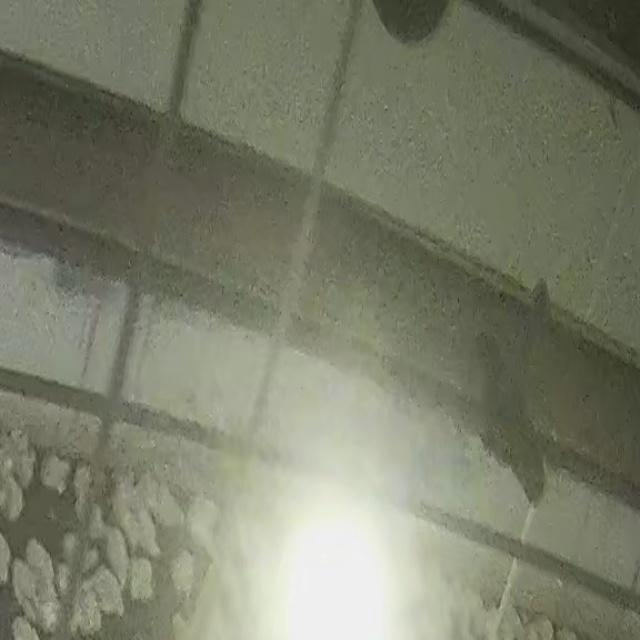chicken: (103, 525, 135, 593), (86, 564, 126, 618), (23, 536, 59, 595), (186, 493, 222, 551), (129, 499, 164, 555), (150, 478, 188, 529), (39, 451, 75, 497), (11, 557, 36, 622), (169, 549, 200, 599), (69, 589, 100, 633), (127, 556, 157, 600), (72, 463, 96, 516), (494, 602, 526, 640), (1, 478, 26, 523), (518, 613, 556, 640), (34, 597, 63, 632), (87, 504, 111, 544), (174, 590, 197, 626), (482, 605, 506, 637), (110, 482, 128, 522), (60, 531, 80, 565)
